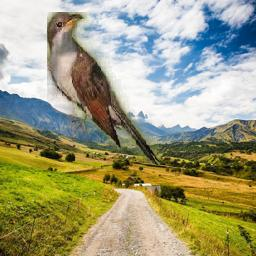Cuckoo: (48, 13, 161, 166)
